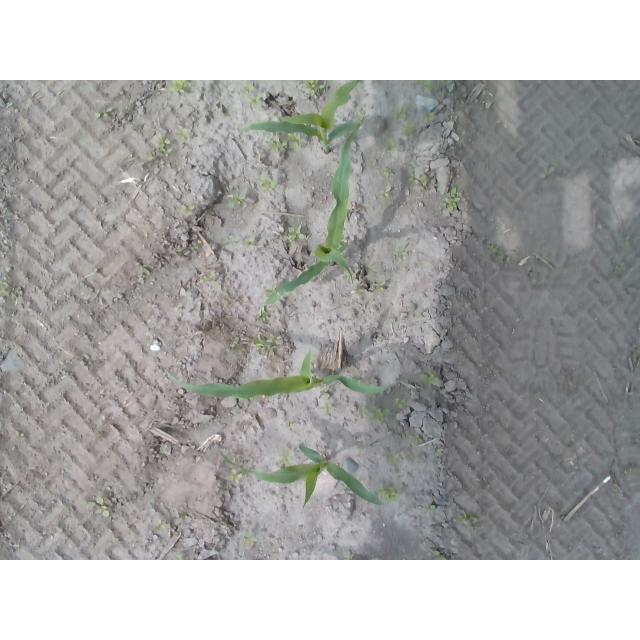Maize: (262, 114, 367, 310), (165, 349, 387, 399), (218, 443, 385, 508), (238, 80, 362, 154)
Weeds: (147, 132, 174, 161), (356, 404, 392, 424), (255, 333, 283, 356), (271, 132, 301, 153), (442, 178, 461, 210), (488, 243, 513, 265), (240, 80, 262, 105), (224, 233, 257, 247), (376, 484, 400, 503), (93, 497, 111, 519), (275, 447, 294, 465), (228, 191, 247, 209), (258, 175, 279, 191), (407, 174, 432, 186), (391, 104, 408, 121), (422, 371, 441, 386), (287, 226, 305, 241), (462, 511, 480, 525), (225, 467, 243, 481), (170, 81, 192, 92), (302, 80, 319, 94), (96, 105, 113, 119), (153, 519, 168, 534), (256, 304, 269, 321), (539, 165, 554, 179), (227, 334, 239, 351), (415, 81, 433, 92), (386, 450, 400, 464), (402, 122, 418, 134), (175, 128, 189, 141), (386, 138, 398, 152), (321, 402, 335, 414), (424, 110, 437, 122), (411, 433, 425, 444), (243, 534, 258, 544), (375, 282, 387, 294), (382, 166, 394, 177), (394, 399, 406, 410), (393, 248, 406, 257), (379, 190, 390, 199), (424, 504, 436, 512), (139, 264, 149, 273), (408, 160, 417, 169), (357, 279, 364, 290), (436, 556, 449, 561)
